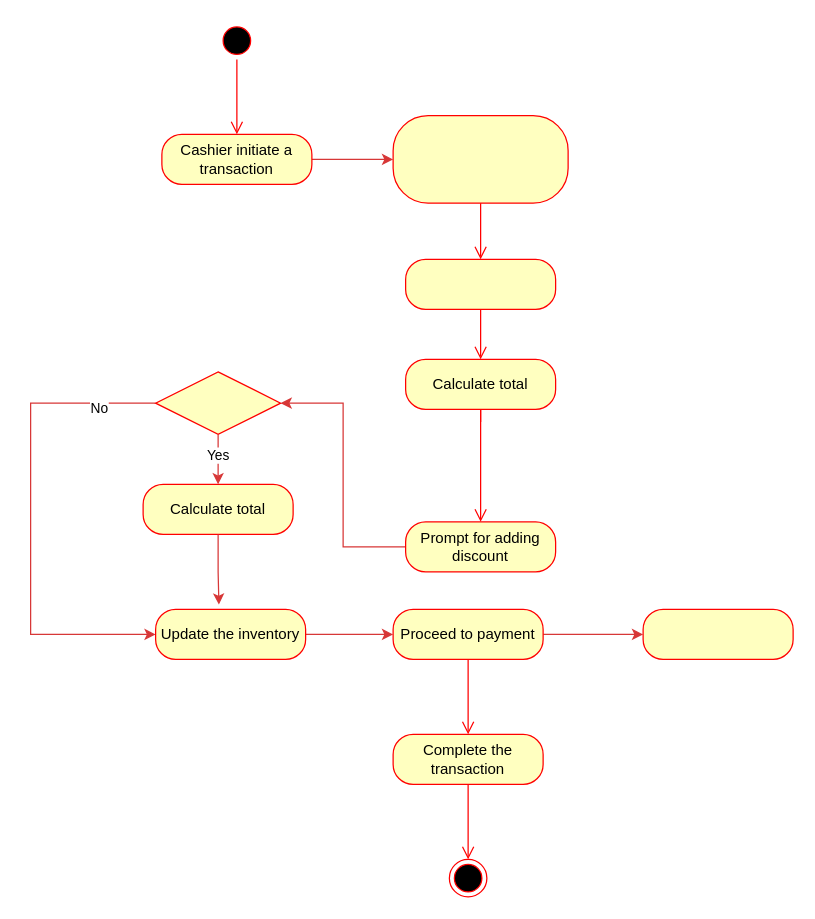
Some shapes in this 815 by 919 pixel diagram are drawn without their labels. The centre of each missing label's shape, as x and y in pixels:
"Has discount" goes at pixel 217 402.
"POS system prompts for scanning and input items" goes at pixel 480 158.
"Scans and enter the items by cashier" goes at pixel 480 283.
"Update the cashier orders" goes at pixel 717 633.
